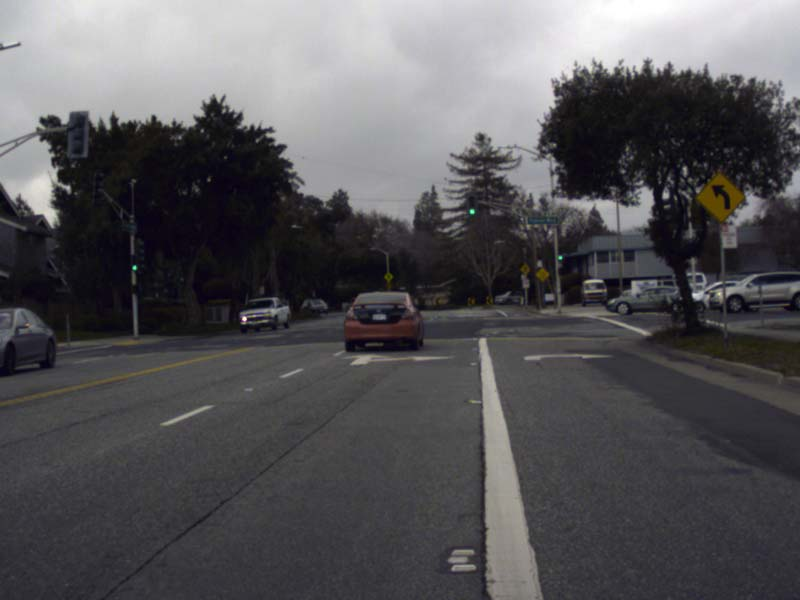Green: (466, 194, 477, 216), (129, 253, 140, 273), (556, 246, 562, 264)
